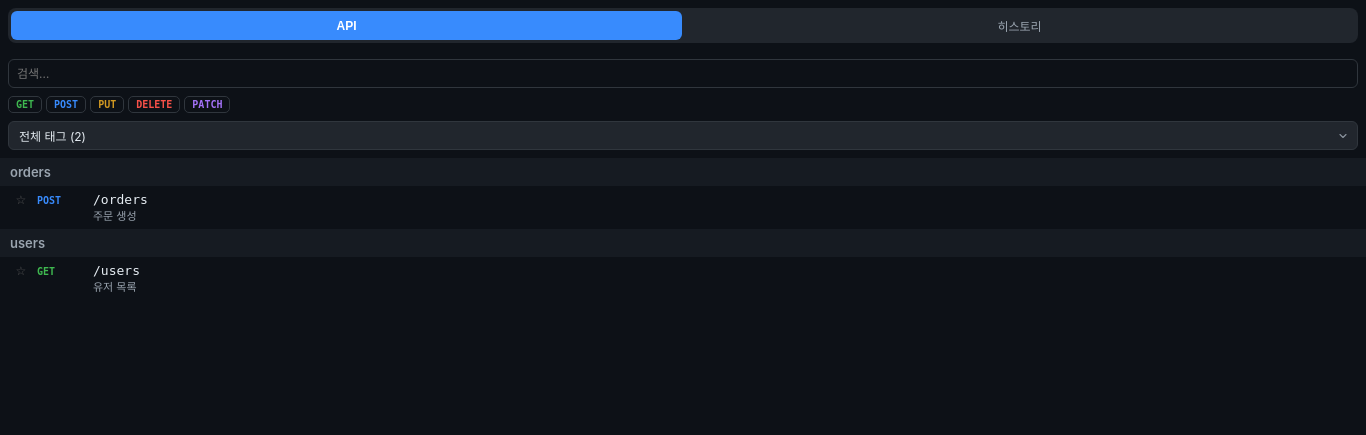
Test case: Sidebar - 히스토리 탭 › 히스토리가 비면 안내 힌트
Click the button "히스토리" at (1020, 26), box [684, 11, 1355, 40]
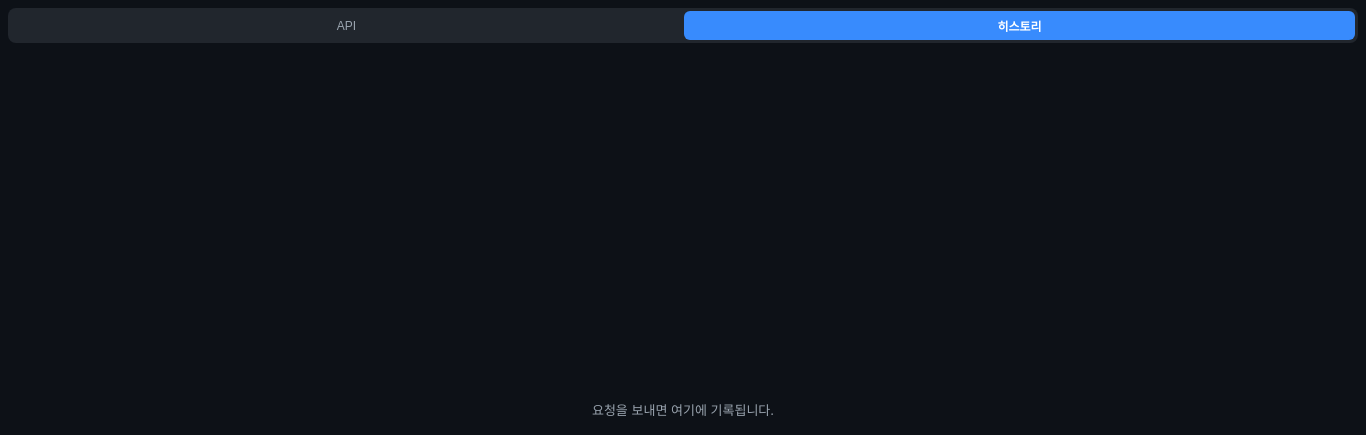
Expected: the text "요청을 보내면 여기에 기록됩니다." is shown, [592, 402, 774, 418]
